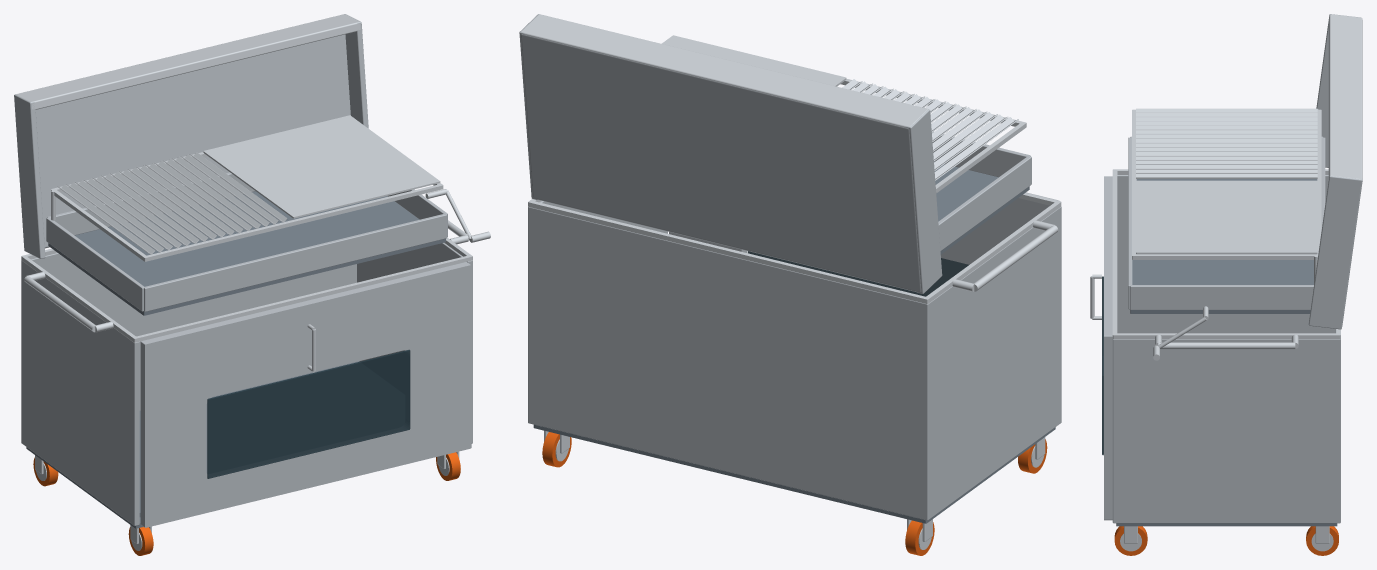
The model's file is caja-china-grande-v1.glb.
3 renders of one model, left to right at view 1: azimuth 30°, elevation 25°; view 2: azimuth 150°, elevation 25°; view 3: azimuth 270°, elevation 25°, orthographic. The views are drawn at different scales.
Parts seen in each view (by area): view 1: Acero_satinado, Acero_pulido, Visor_vidrio, Interior_acero, Ruedas_naranjas; view 2: Acero_satinado, Acero_pulido, Interior_acero, Ruedas_naranjas, Visor_vidrio; view 3: Acero_satinado, Acero_pulido, Interior_acero, Ruedas_naranjas, Visor_vidrio.
Boxes of the visible parts, x1,y1,x2,y2 form: Acero_satinado: (14, 14, 472, 527); Acero_pulido: (15, 14, 490, 550); Visor_vidrio: (207, 349, 410, 478); Interior_acero: (26, 191, 445, 528); Ruedas_naranjas: (33, 452, 460, 555); Acero_satinado: (519, 14, 1061, 520); Acero_pulido: (521, 14, 1061, 549); Interior_acero: (533, 161, 1055, 523); Ruedas_naranjas: (542, 432, 1047, 555); Visor_vidrio: (747, 251, 968, 296); Acero_satinado: (1104, 14, 1362, 523); Acero_pulido: (1090, 14, 1362, 551); Interior_acero: (1116, 179, 1337, 526); Ruedas_naranjas: (1114, 526, 1338, 555); Visor_vidrio: (1102, 276, 1103, 455).
Size of the model in its own units: 1.31 by 1.21 by 0.7761.
